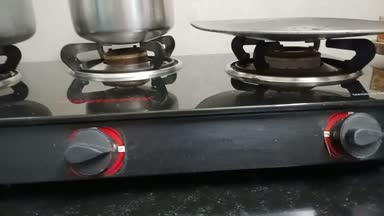flame_gas_off: (242, 41, 384, 162), (61, 38, 173, 191)
